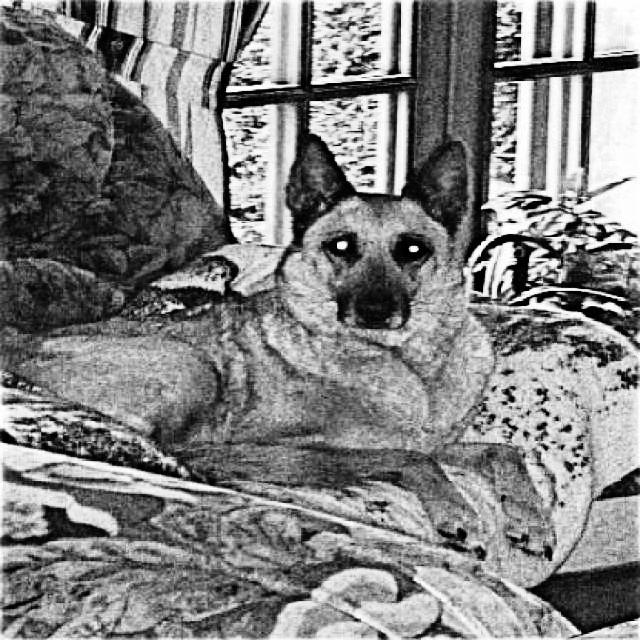Dog: (0, 117, 565, 556)
